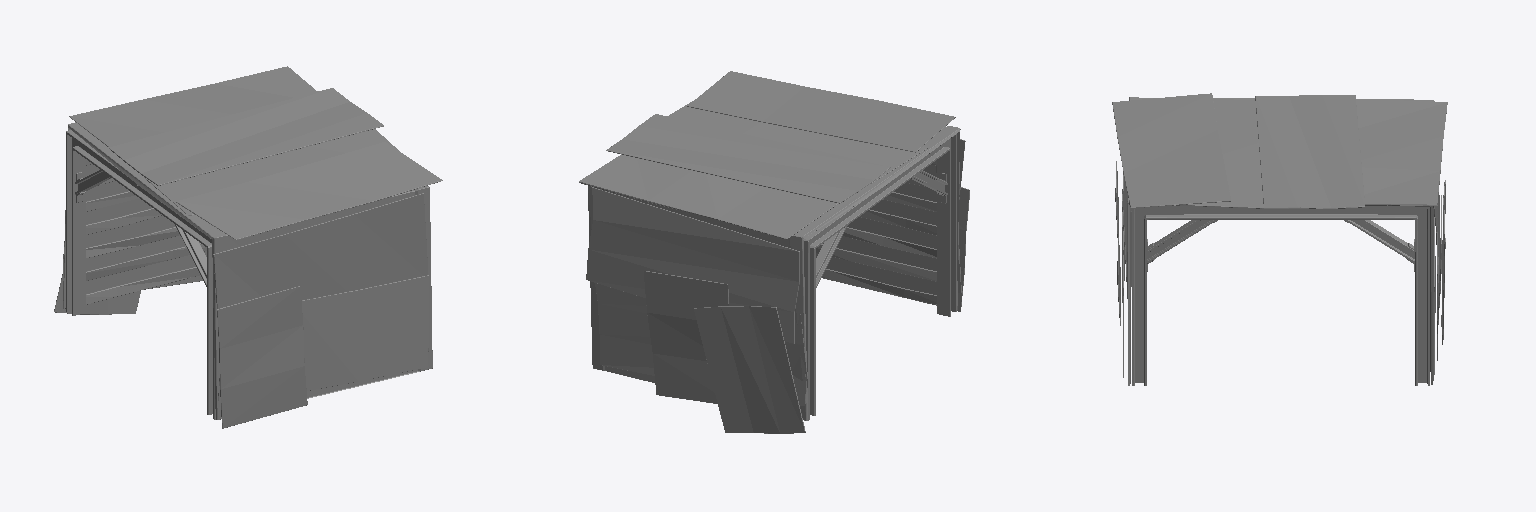
File: Enterance.obj
3 views of the same model, side by side, from view 1: azimuth 30°, elevation 25°; view 2: azimuth 150°, elevation 25°; view 3: azimuth 270°, elevation 25° (orthographic).
Visible parts, largest first — view 1: Metal_Entrance; view 2: Metal_Entrance; view 3: Metal_Entrance.
Part boxes in pixels (x1,y1,x2,y2): Metal_Entrance: (54, 66, 442, 428); Metal_Entrance: (579, 71, 969, 433); Metal_Entrance: (1112, 93, 1447, 385).
Size of the model in its own units: 561 by 480 by 676.